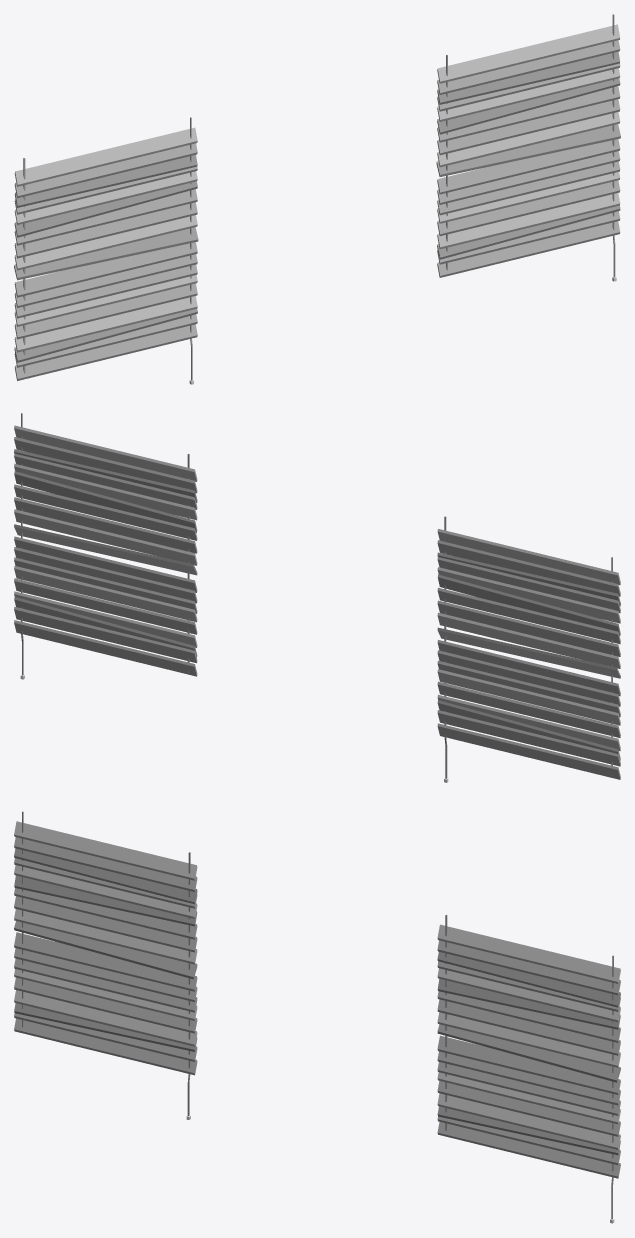
Rendered from Wall_Window_Blinds_01.glb.
3 renders of one model, top to bottom at view 1: azimuth 30°, elevation 25°; view 2: azimuth 150°, elevation 25°; view 3: azimuth 330°, elevation 25°, orthographic.
Parts seen in each view (by area): view 1: SM_Env_Wall_Window_Blinds_01; view 2: SM_Env_Wall_Window_Blinds_01; view 3: SM_Env_Wall_Window_Blinds_01.
Boxes of the visible parts, x1,y1,x2,y2 form: SM_Env_Wall_Window_Blinds_01: [14, 14, 620, 384]; SM_Env_Wall_Window_Blinds_01: [14, 413, 620, 782]; SM_Env_Wall_Window_Blinds_01: [14, 811, 620, 1223].
Bounding box in the file's own units: 3.57 × 1.5 × 0.0476.
1 material, 1 textured.
